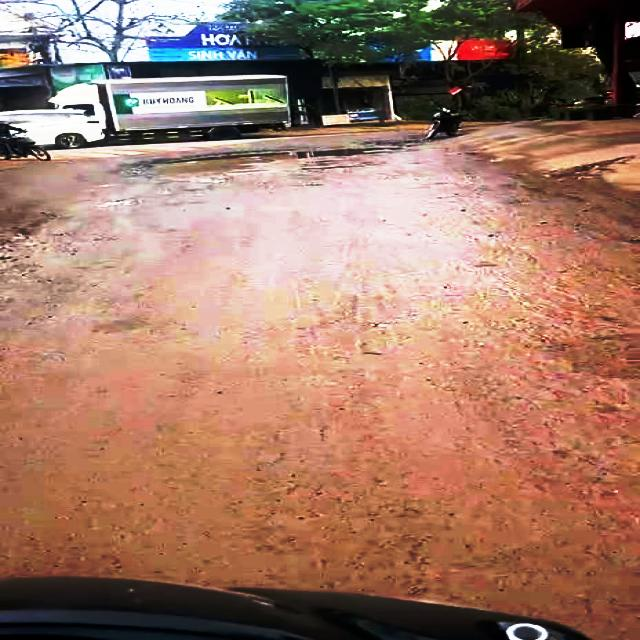pothole: (139, 147, 396, 180)
